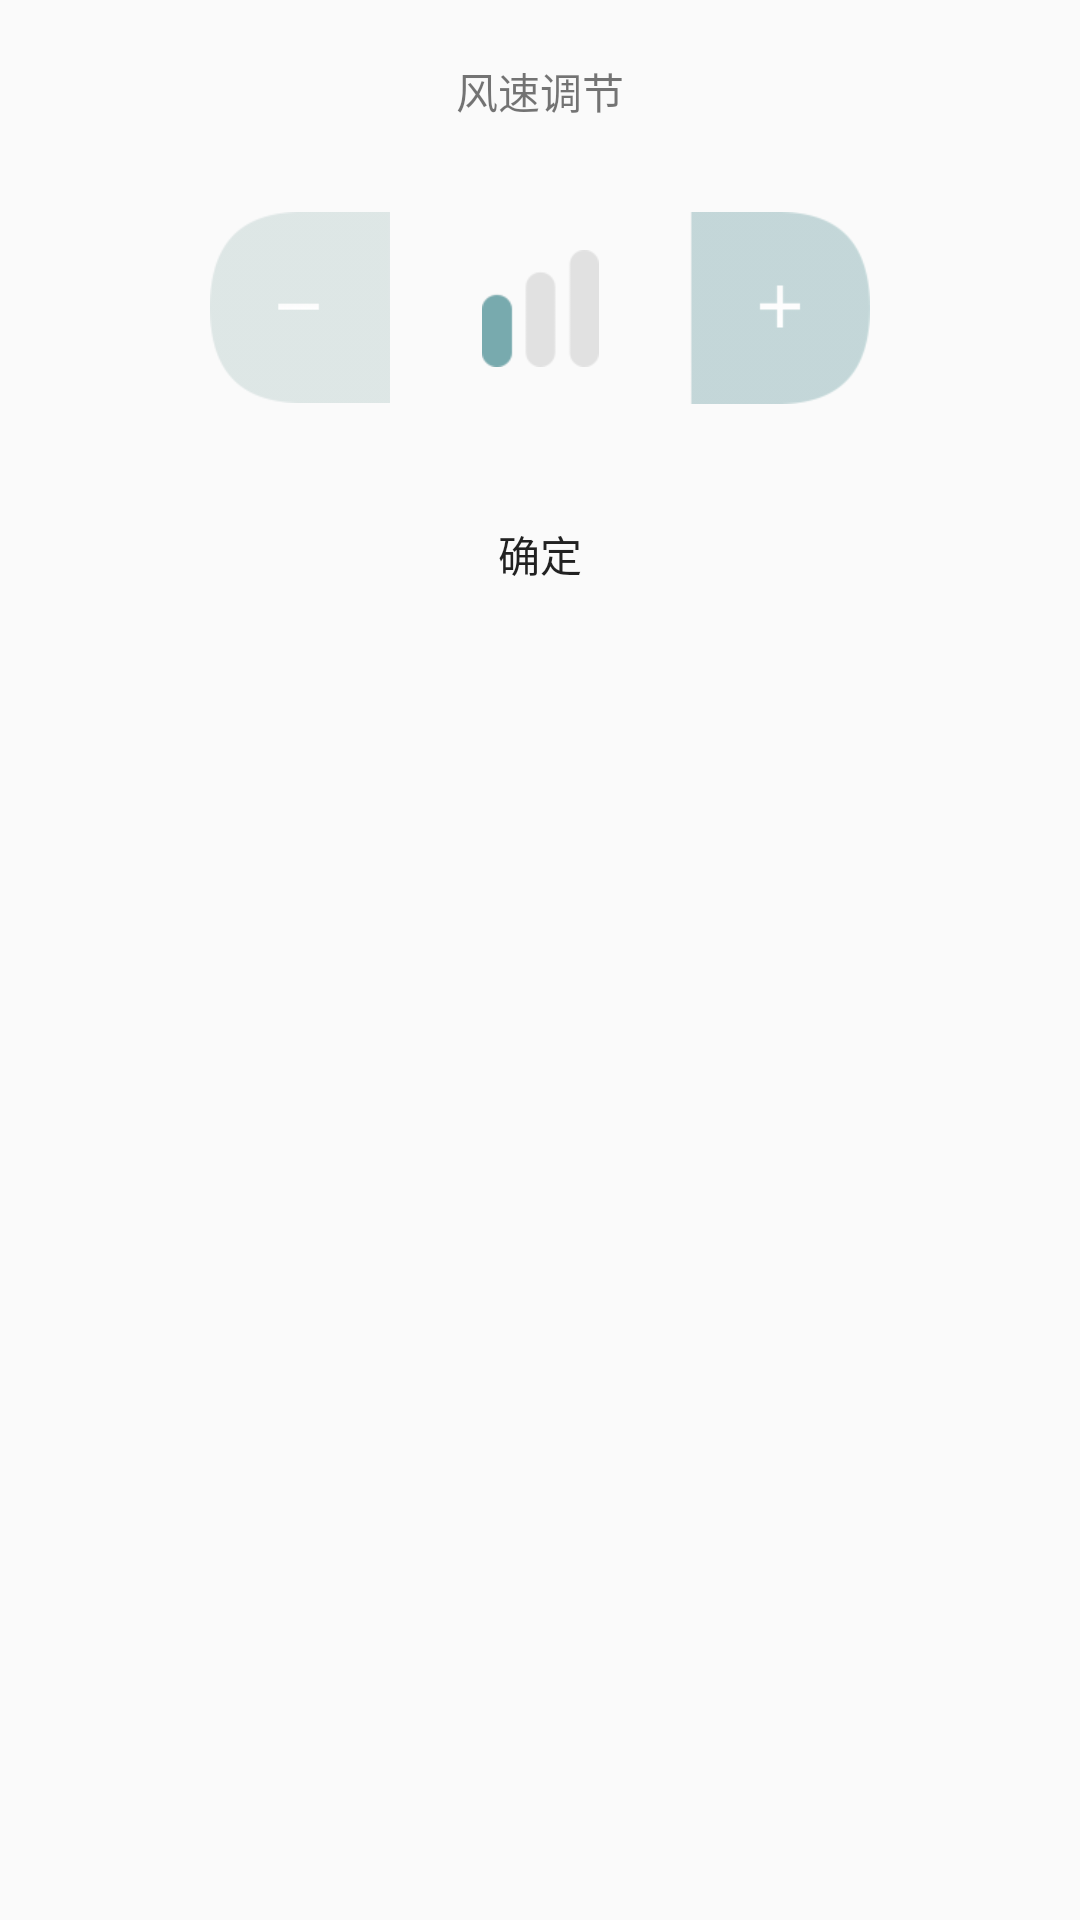

Named icons in this screenshot (1080x1920) and their centers, (x,y):
minus: (300,307)
plus: (780,308)
